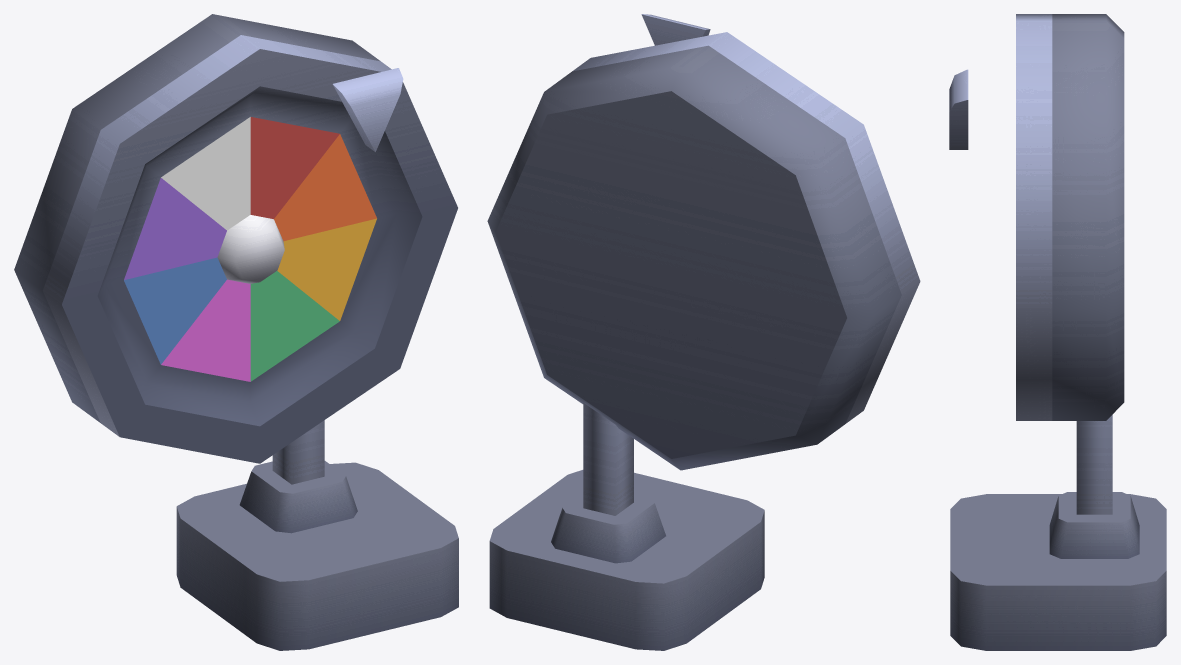
File: prize-wheel.glb
The picture shows the model from 3 angles, left to right: view 1: azimuth 30°, elevation 25°; view 2: azimuth 150°, elevation 25°; view 3: azimuth 270°, elevation 25°; orthographic projection. The views are drawn at different scales.
Parts seen in each view (by area): view 1: prize-wheel.001, prize-wheel; view 2: prize-wheel.001, prize-wheel; view 3: prize-wheel.001, prize-wheel.
Part boxes in pixels (x1,y1,x2,y2): prize-wheel.001: (14,14,457,463); prize-wheel: (176,68,458,650); prize-wheel.001: (487,32,920,470); prize-wheel: (489,14,764,650); prize-wheel.001: (1016,14,1124,420); prize-wheel: (949,69,1166,650).
Size of the model in its own units: 1.8 by 2.51 by 0.9045.
Materials: 1 (1 with a texture image).
